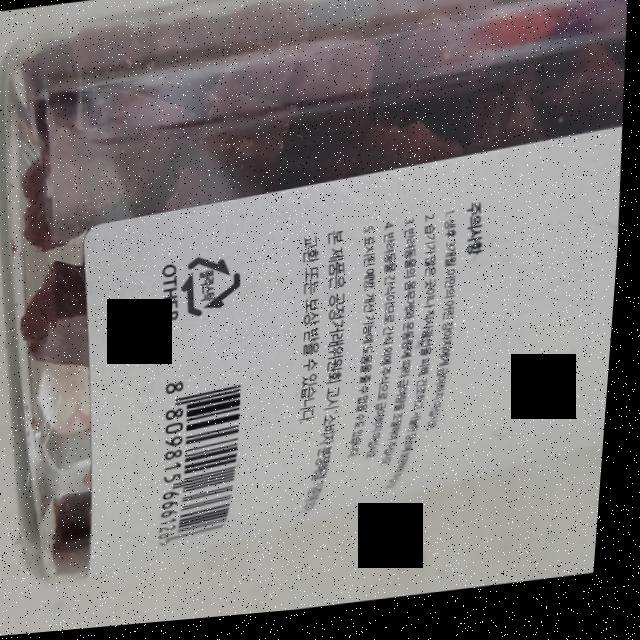Plastic: (182, 250, 250, 323)
